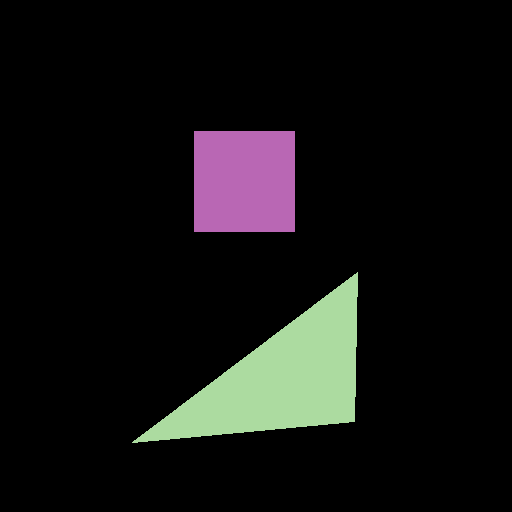square: (194, 131, 294, 231)
triangle: (132, 272, 357, 442)
